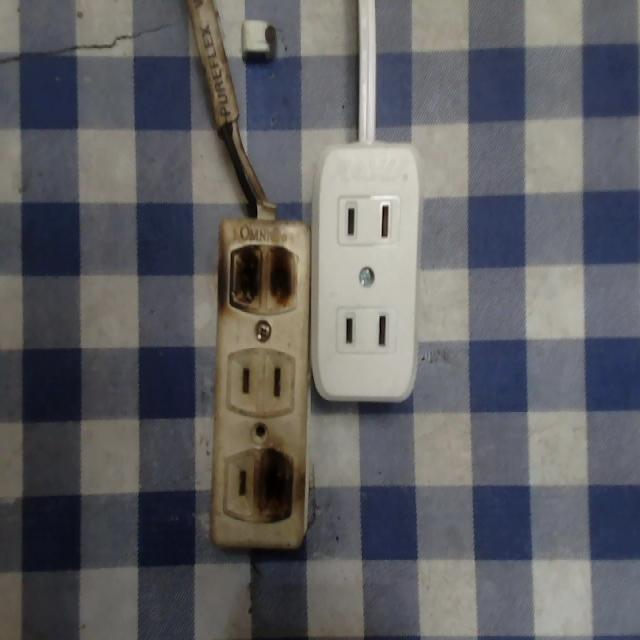-: (221, 236, 306, 316), (254, 441, 294, 527)
